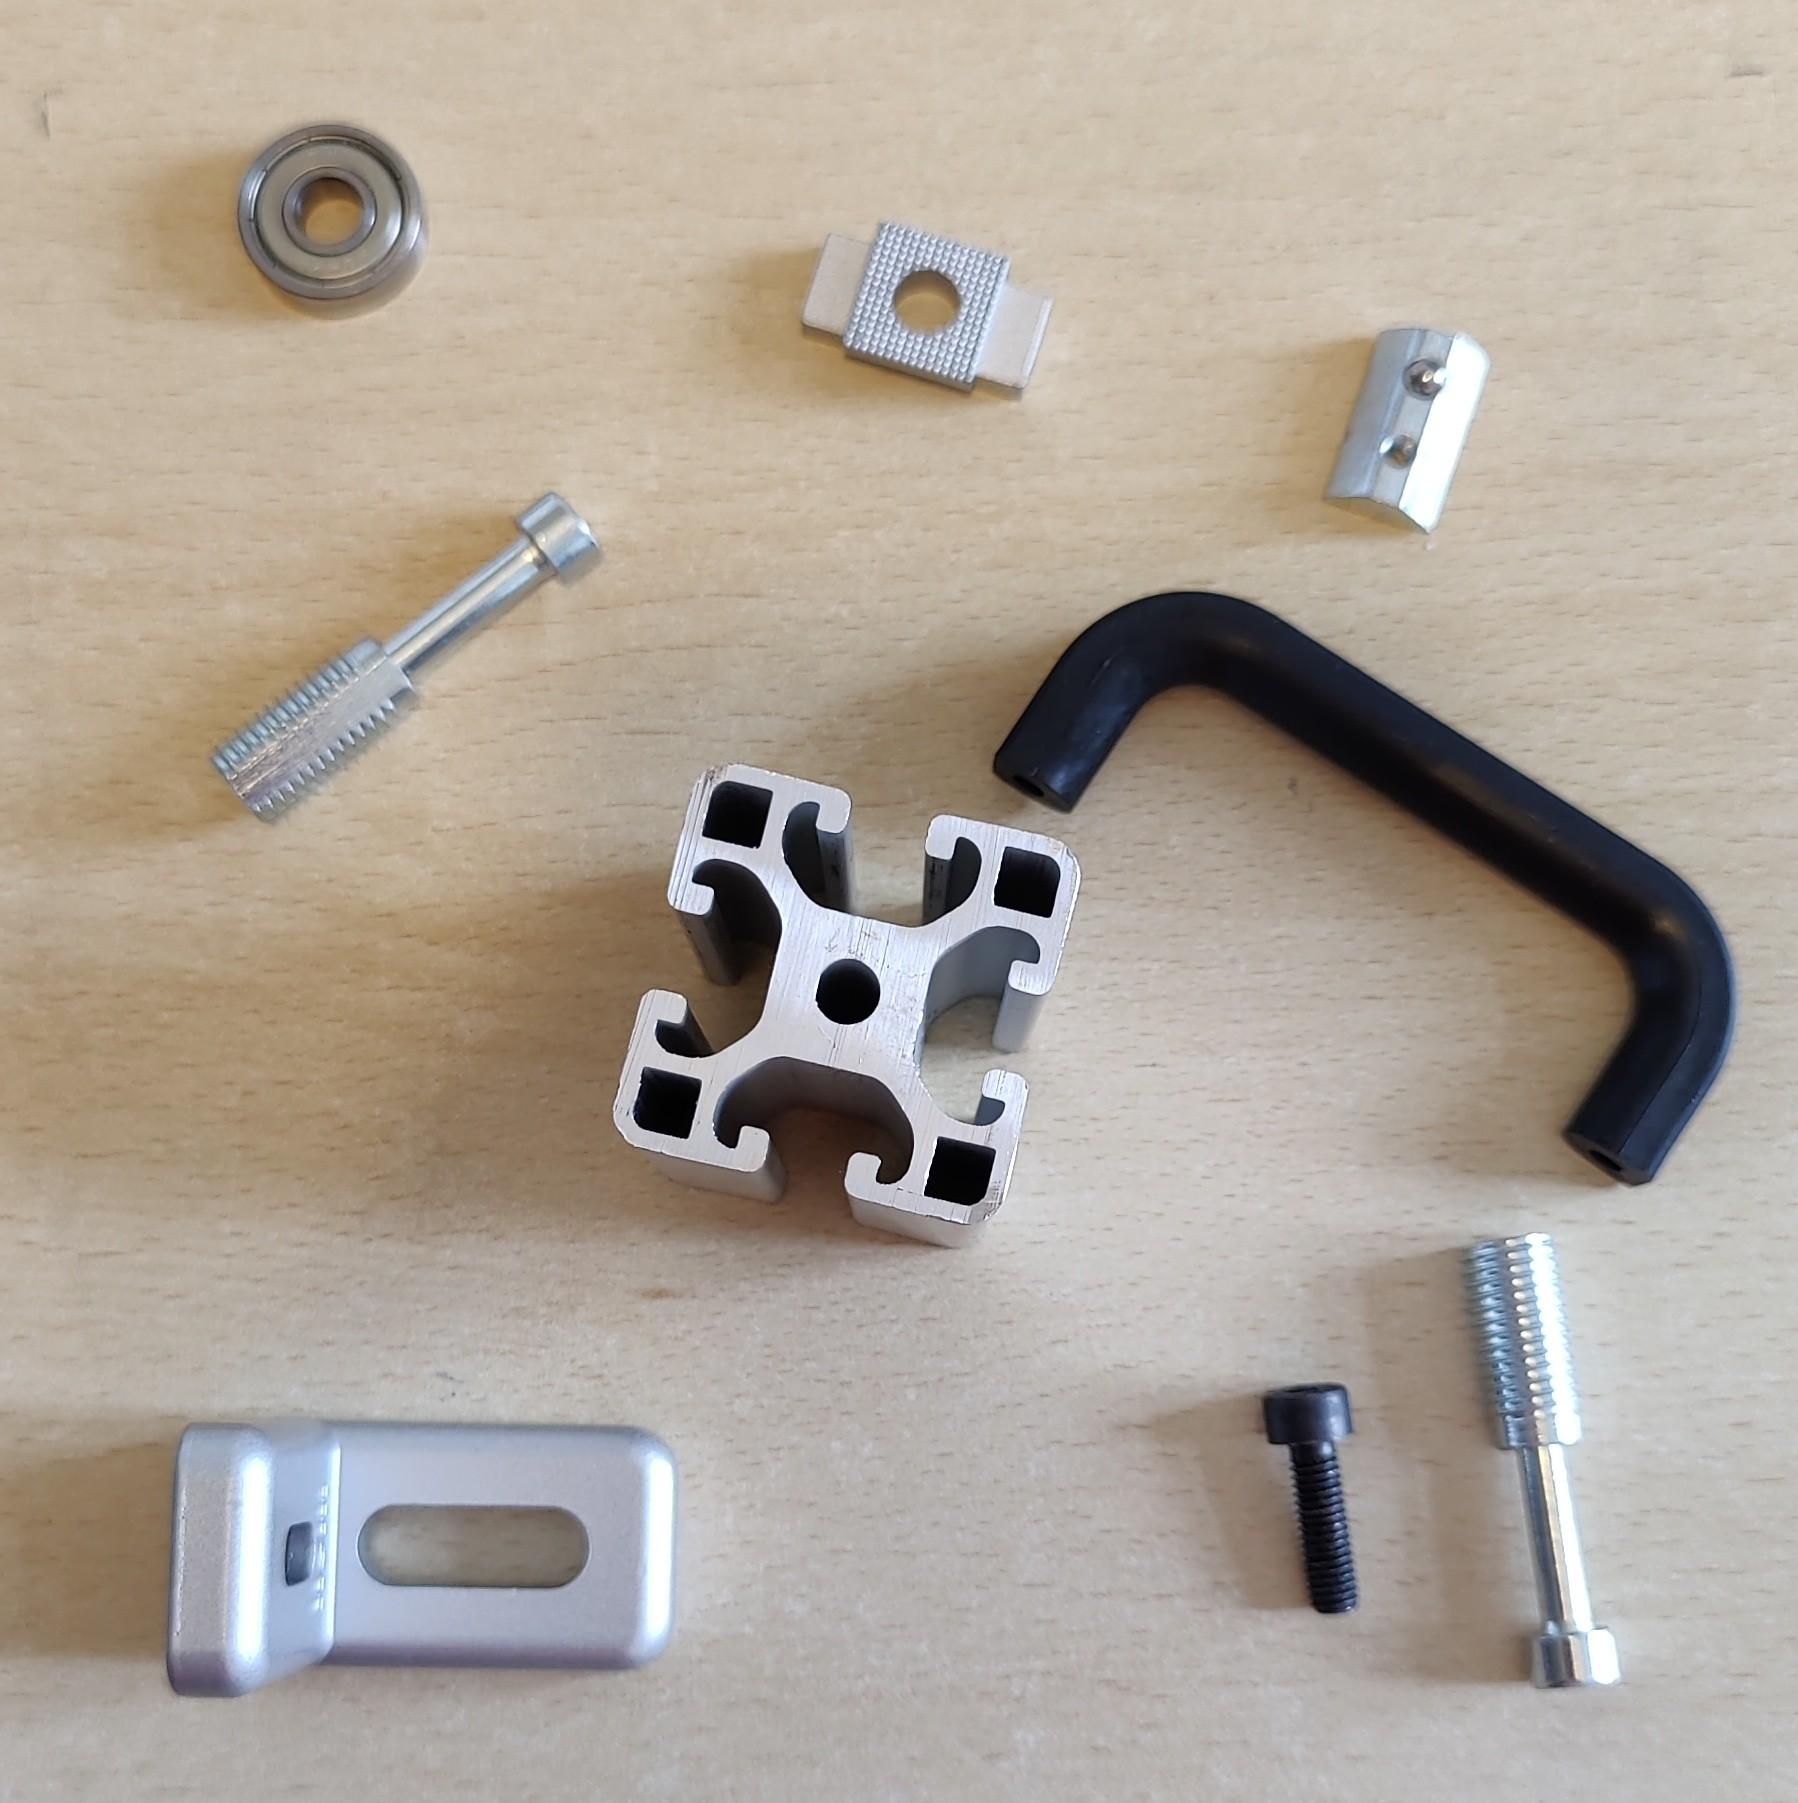Aluminium Extension: (609, 757, 1082, 1251)
Ball Bearing: (235, 119, 430, 323)
Multiwinkel: (161, 1413, 682, 1699)
Pull Handle: (988, 588, 1737, 1190)
Shoulder Socket Head Cap Screw: (204, 487, 608, 827), (1459, 1230, 1627, 1696)
Socket Head Cap Screw: (1258, 1378, 1362, 1619)
T Nut Square: (799, 216, 1055, 403)
T Spring Nut: (1317, 323, 1492, 537)
